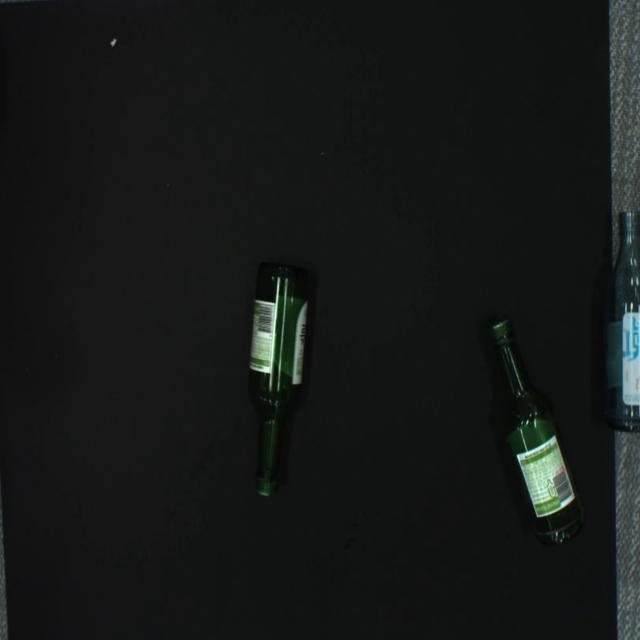soju-bottle: (489, 318, 585, 547), (249, 264, 309, 498), (606, 210, 640, 433)
